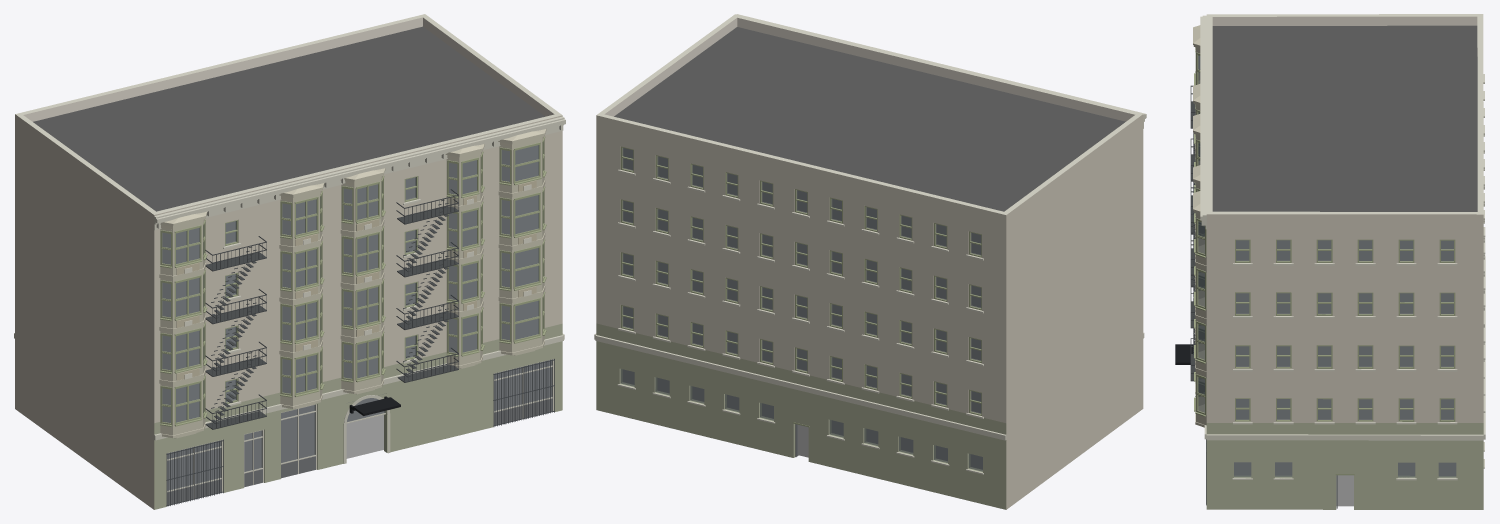
Rendered from exterior.glb.
3 views of the same model, side by side, from view 1: azimuth 30°, elevation 25°; view 2: azimuth 150°, elevation 25°; view 3: azimuth 270°, elevation 25° (orthographic).
Visible parts, largest first — view 1: shell, roof, bay-glazing-hyb, shadow-proxy, bay-windows-hyb, glazing, storefront, trim, fire-escape, fire-escape.001, hand-ornament, frames; view 2: shell, roof, glazing, shadow-proxy, frames, trim; view 3: shell, roof, glazing, shadow-proxy, trim, frames, bay-windows-hyb, bay-glazing-hyb, fire-escape, fire-escape.001, hand-ornament.
Boxes of the visible parts, left/top/right/bottom form: shell: left=15, top=14, right=562, bottom=509; roof: left=33, top=26, right=544, bottom=211; bay-glazing-hyb: left=160, top=136, right=546, bottom=426; shadow-proxy: left=162, top=145, right=551, bottom=490; bay-windows-hyb: left=159, top=129, right=546, bottom=438; glazing: left=167, top=177, right=552, bottom=490; storefront: left=166, top=359, right=554, bottom=506; trim: left=14, top=116, right=565, bottom=440; fire-escape: left=396, top=189, right=458, bottom=382; fire-escape.001: left=205, top=236, right=266, bottom=429; hand-ornament: left=176, top=180, right=536, bottom=415; frames: left=225, top=176, right=417, bottom=403; shell: left=596, top=14, right=1143, bottom=509; roof: left=614, top=27, right=1125, bottom=211; glazing: left=620, top=148, right=982, bottom=471; shadow-proxy: left=623, top=148, right=982, bottom=469; frames: left=620, top=146, right=981, bottom=415; trim: left=594, top=14, right=1146, bottom=474; shell: left=1206, top=14, right=1483, bottom=509; roof: left=1212, top=25, right=1477, bottom=211; glazing: left=1234, top=240, right=1456, bottom=477; shadow-proxy: left=1234, top=240, right=1455, bottom=506; trim: left=1200, top=15, right=1485, bottom=480; frames: left=1235, top=239, right=1455, bottom=421; bay-windows-hyb: left=1193, top=25, right=1206, bottom=427; bay-glazing-hyb: left=1194, top=47, right=1206, bottom=416; fire-escape: left=1190, top=179, right=1195, bottom=381; fire-escape.001: left=1190, top=85, right=1195, bottom=287; hand-ornament: left=1175, top=144, right=1195, bottom=364.
Bounding box in the file's own units: 27.35 × 18.71 × 17.82.
